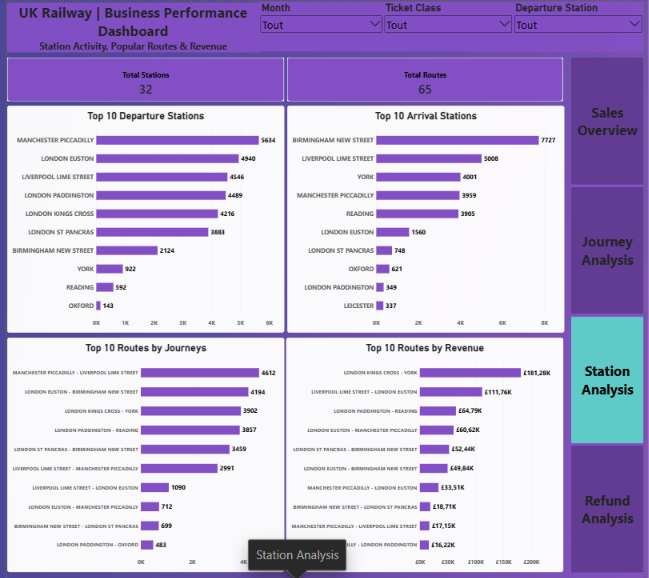

This screenshot's page, from the dashboard's own definition file:
{"tool":"powerbi","page":{"name":"Station Analysis","canvas":[2200,2000],"ordinal":2},"visuals":[{"type":"cardVisual","fields":{"Data":["Measure_Table.Total Stations"]},"box":[0,193.3,956.7,150],"z":0},{"type":"cardVisual","fields":{"Data":["Measure_Table.Total Routes"]},"box":[967.5,192.5,952.5,150],"z":1000},{"type":"slicer","fields":{"Values":["gold dim_journey_date.Year_Month"]},"box":[870.8,0,430,172.5],"z":2000},{"type":"textbox","box":[0,2.5,870,172],"z":3000},{"type":"slicer","fields":{"Values":["gold dim_tickets.Ticket_Class"]},"box":[1299.2,0,450,172.5],"z":4000},{"type":"slicer","fields":{"Values":["gold dim_departure_stations.Departure_Station_Name"]},"box":[1748.5,0,450,172.5],"z":5000},{"type":"pageNavigator","box":[1950,193.3,250,1780],"z":6000},{"type":"clusteredBarChart","title":"Top 10 Departure Stations","fields":{"Category":["gold dim_departure_stations.Departure_Station_Name"],"Y":["Measure_Table.Total Journeys"]},"box":[0,360,957.5,785],"z":7000},{"type":"clusteredBarChart","title":"Top 10 Arrival Stations","fields":{"Category":["gold dim_arrival_stations.Arrival_Station_Name"],"Y":["Measure_Table.Total Journeys"]},"box":[967.5,360,957.5,785],"z":8000},{"type":"clusteredBarChart","title":"Top 10 Routes by Journeys","fields":{"Category":["gold fact_sales.Route"],"Y":["Measure_Table.Total Journeys"]},"box":[0,1162.5,957.5,810],"z":9000},{"type":"clusteredBarChart","title":"Top 10 Routes by Revenue","fields":{"Category":["gold fact_sales.Route"],"Y":["Measure_Table.Total Revenue"]},"box":[965,1162.5,957.5,810],"z":10000}]}

Visuals, with their boxes in screenshot pixels (x1, y1, x2, y2), scaled from the page's 2200x2000 canvas onto the 649x578 screenshot:
cardVisual - Measure_Table.Total Stations: [0,56,282,99]
cardVisual - Measure_Table.Total Routes: [285,56,566,99]
slicer - gold dim_journey_date.Year_Month: [257,0,384,50]
textbox: [0,1,257,50]
slicer - gold dim_tickets.Ticket_Class: [383,0,516,50]
slicer - gold dim_departure_stations.Departure_Station_Name: [516,0,648,50]
pageNavigator: [575,56,648,570]
"Top 10 Departure Stations" clusteredBarChart: [0,104,282,331]
"Top 10 Arrival Stations" clusteredBarChart: [285,104,568,331]
"Top 10 Routes by Journeys" clusteredBarChart: [0,336,282,570]
"Top 10 Routes by Revenue" clusteredBarChart: [285,336,567,570]
